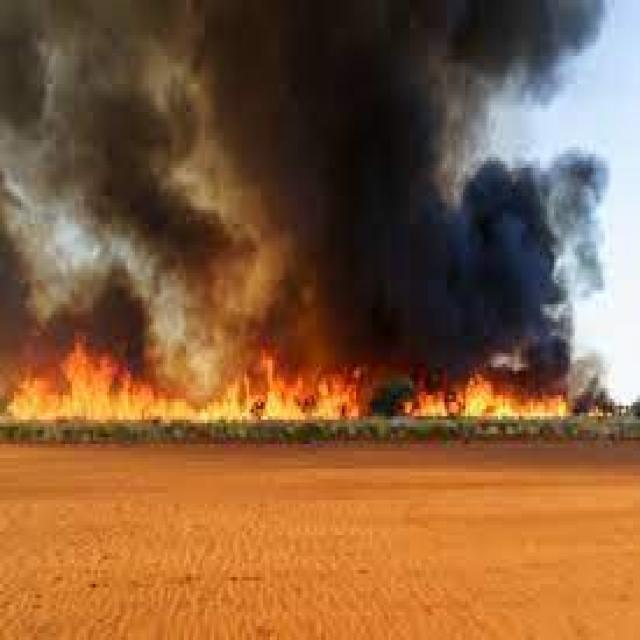Fire: (3, 364, 590, 428)
Smoke: (210, 0, 622, 350), (2, 9, 200, 368)
